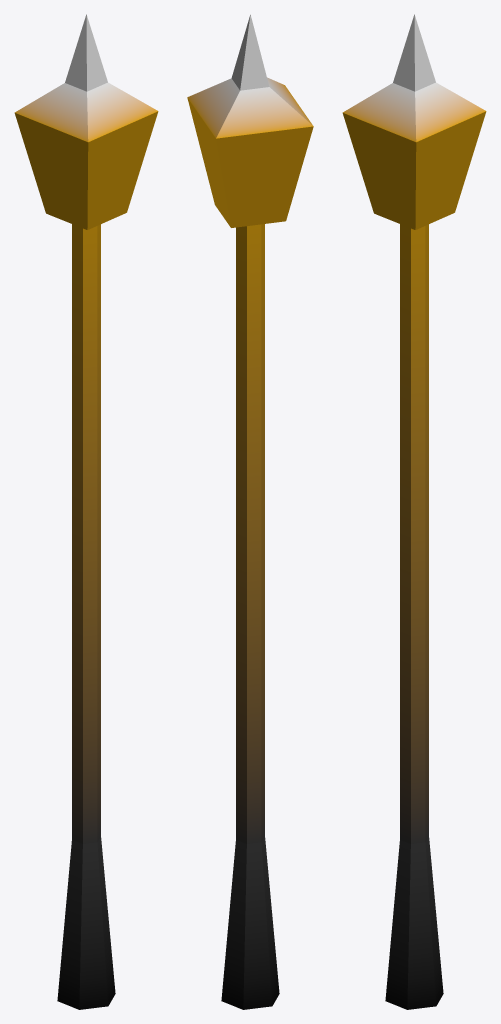
Rendered from LampPost.obj.
The picture shows the model from 3 angles, left to right: view 1: azimuth 90°, elevation 25°; view 2: azimuth 150°, elevation 25°; view 3: azimuth 270°, elevation 25°; orthographic projection.
Parts seen in each view (by area): view 1: LampPost; view 2: LampPost; view 3: LampPost.
Part boxes in pixels (left/top/right/bottom): LampPost: left=14, top=14, right=158, bottom=1009; LampPost: left=187, top=14, right=313, bottom=1009; LampPost: left=342, top=14, right=486, bottom=1009.
Bounding box in the file's own units: 0.8642 × 6.51 × 0.8642.
